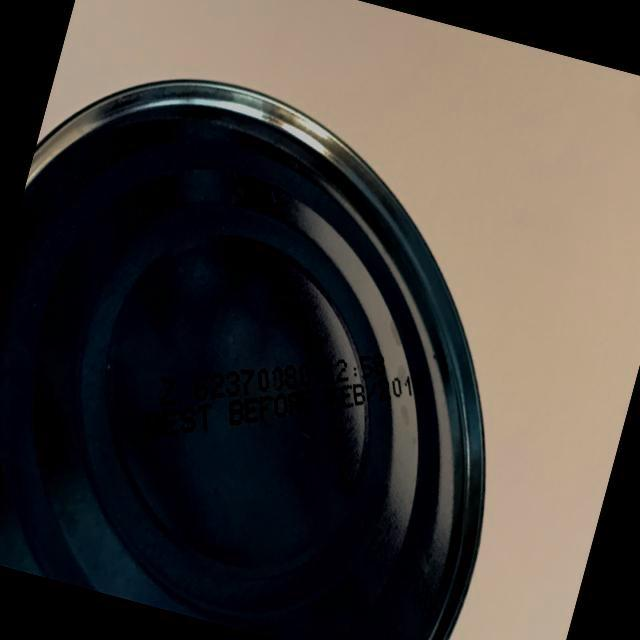metal: (0, 22, 600, 640)
